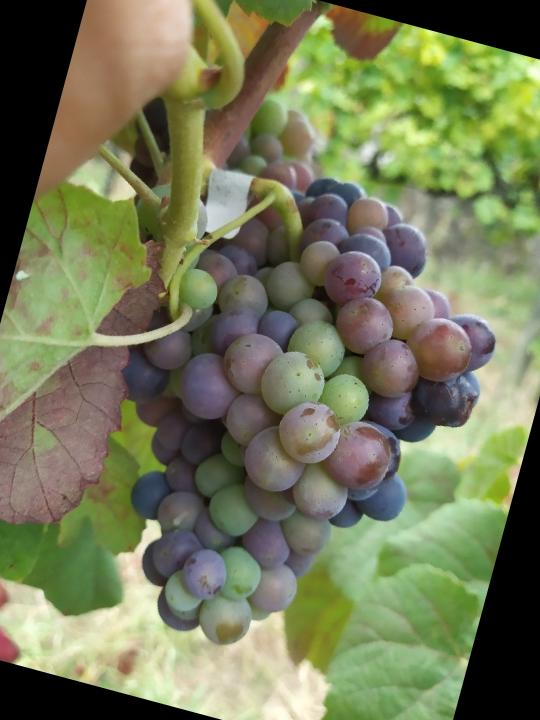grape: (57, 134, 531, 698)
